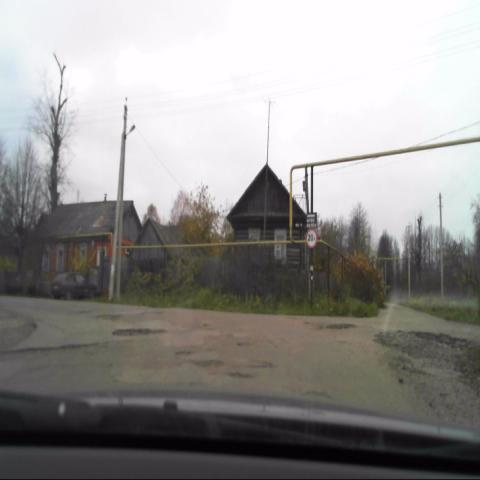3_11: (304, 228, 318, 250)
